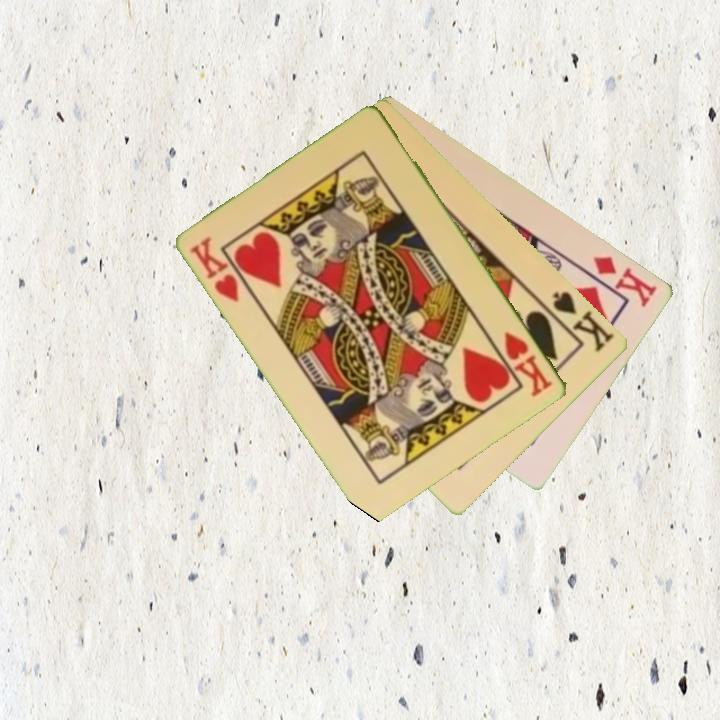Kd: (580, 252, 660, 310)
Kh: (187, 232, 243, 305), (501, 328, 557, 400)
Ks: (550, 287, 618, 356)
